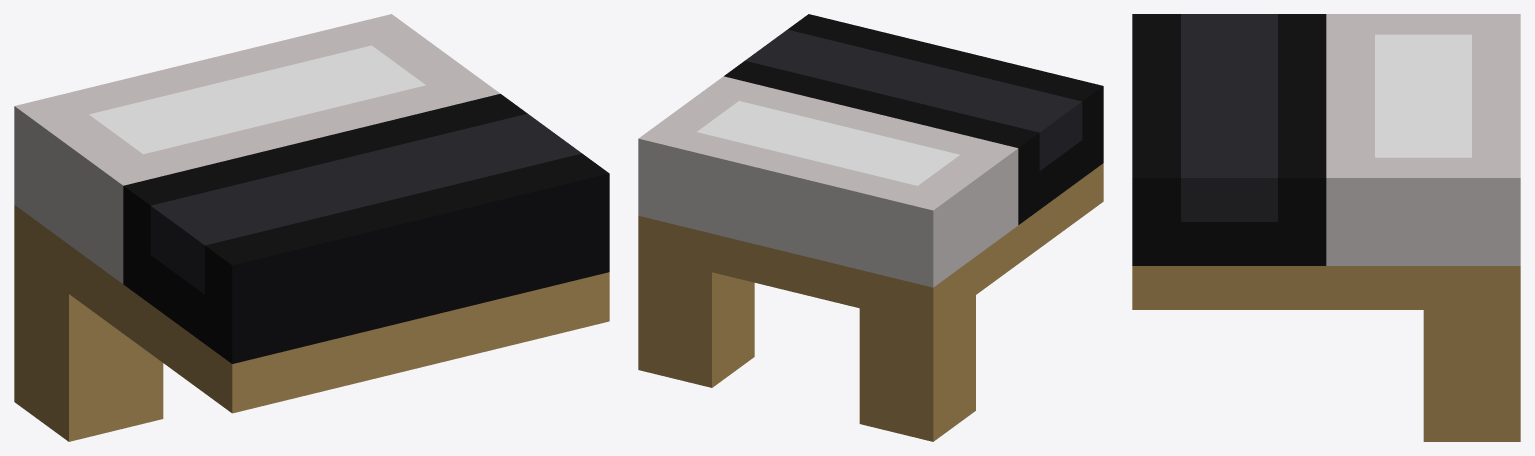
The model's file is _Black Bed Head.glb.
3 views of the same model, side by side, from view 1: azimuth 30°, elevation 25°; view 2: azimuth 150°, elevation 25°; view 3: azimuth 270°, elevation 25° (orthographic). The views are drawn at different scales.
Visible parts, largest first — view 1: Untitled; view 2: Untitled; view 3: Untitled.
Boxes of the visible parts, x1,y1,x2,y2 form: Untitled: (14, 14, 609, 441); Untitled: (638, 14, 1103, 441); Untitled: (1132, 14, 1520, 441).
Size of the model in its own units: 1.6 by 1.2 by 1.6.
Materials: 1 (1 with a texture image).
